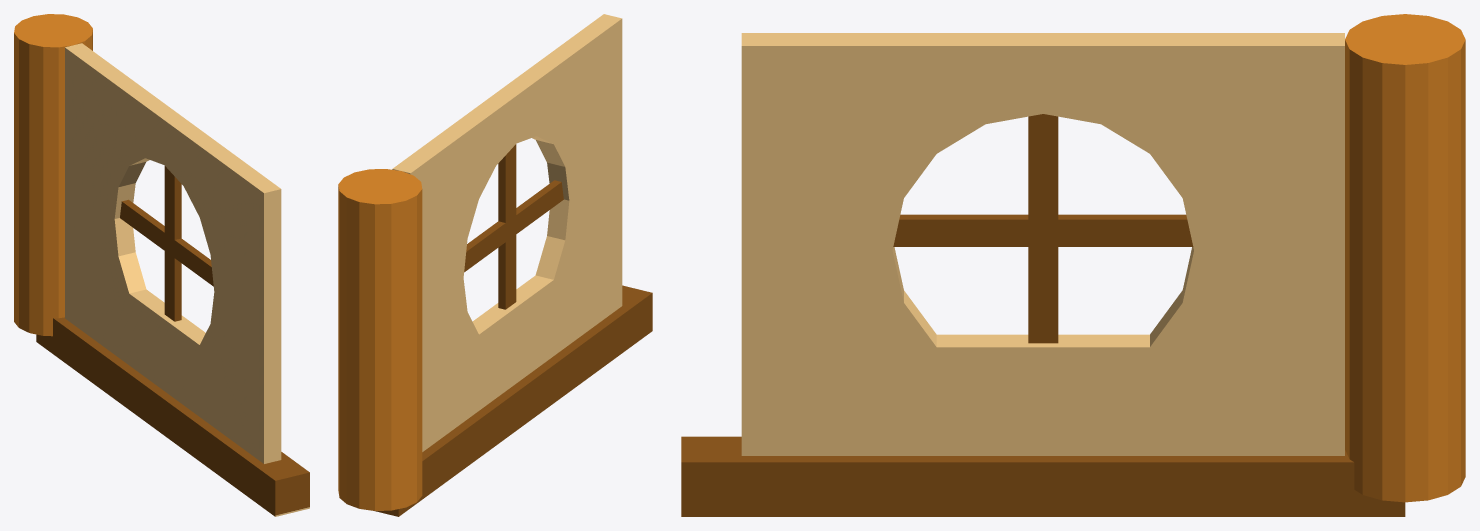
Rendered from Wall_R.obj.
3 renders of one model, left to right at view 1: azimuth 30°, elevation 25°; view 2: azimuth 150°, elevation 25°; view 3: azimuth 270°, elevation 25°, orthographic. The views are drawn at different scales.
Parts seen in each view (by area): view 1: 壁.001, 支柱.002, 幅木.001, 窓枠.001, 窓枠; view 2: 壁.001, 支柱.002, 幅木.001, 窓枠.001, 窓枠; view 3: 壁.001, 支柱.002, 幅木.001, 窓枠, 窓枠.001.
Part boxes in pixels (x1,y1,x2,y2): 壁.001: [65, 43, 281, 463]; 支柱.002: [14, 14, 92, 336]; 幅木.001: [36, 317, 309, 516]; 窓枠.001: [164, 166, 181, 321]; 窓枠: [120, 199, 213, 286]; 壁.001: [392, 14, 622, 451]; 支柱.002: [338, 169, 422, 510]; 幅木.001: [375, 285, 652, 516]; 窓枠.001: [498, 144, 516, 309]; 窓枠: [464, 180, 563, 272]; 壁.001: [741, 33, 1344, 455]; 支柱.002: [1345, 14, 1465, 502]; 幅木.001: [681, 436, 1405, 516]; 窓枠: [893, 214, 1193, 246]; 窓枠.001: [1028, 114, 1058, 343].
Size of the model in its own units: 0.6672 by 2.84 by 4.34.
